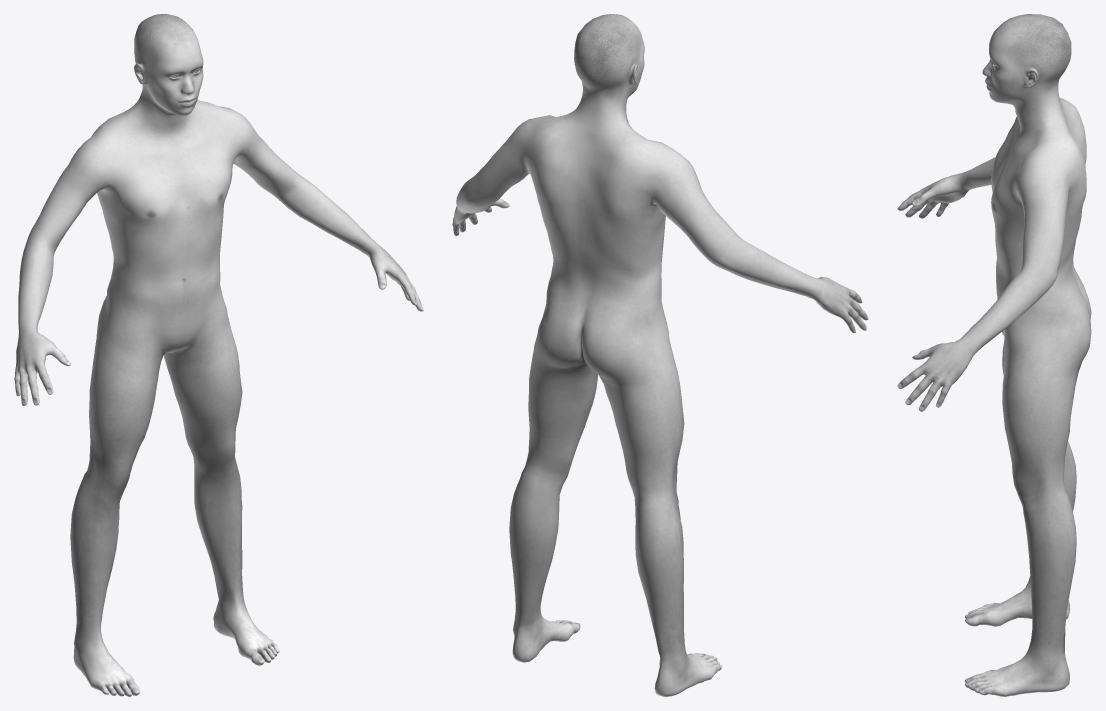
The model's file is avatar_male.glb.
The picture shows the model from 3 angles, left to right: view 1: azimuth 30°, elevation 25°; view 2: azimuth 150°, elevation 25°; view 3: azimuth 270°, elevation 25°; orthographic projection.
Parts seen in each view (by area): view 1: avatar; view 2: avatar; view 3: avatar.
Boxes of the visible parts, x1,y1,x2,y2 form: avatar: [14, 14, 423, 696]; avatar: [452, 14, 868, 696]; avatar: [897, 14, 1091, 696].
Bounding box in the file's own units: 1.13 × 1.73 × 0.4761.
1 material, 1 textured.
